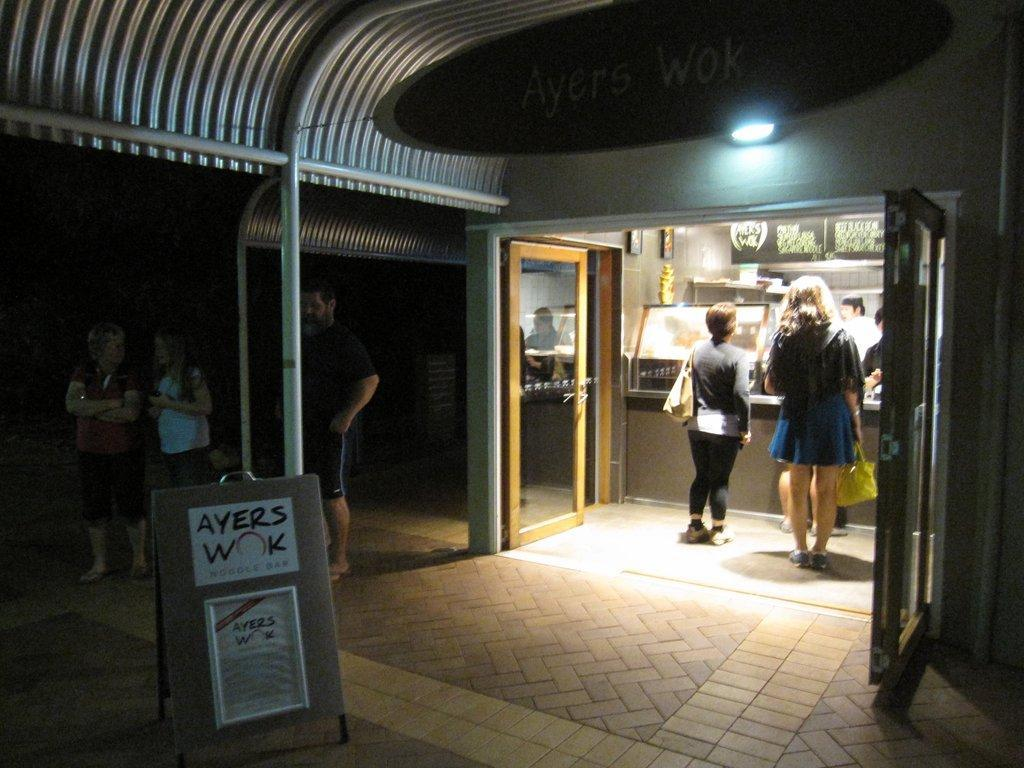door: (888, 208, 934, 677), (510, 239, 574, 507)
